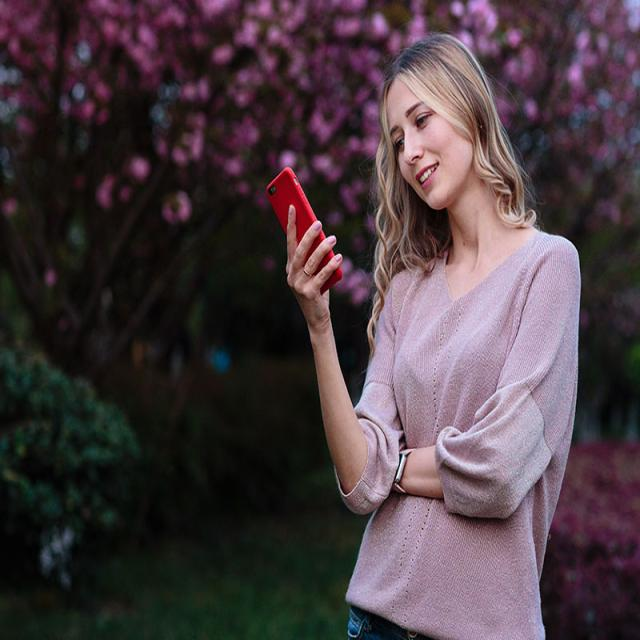human: (262, 29, 587, 640)
